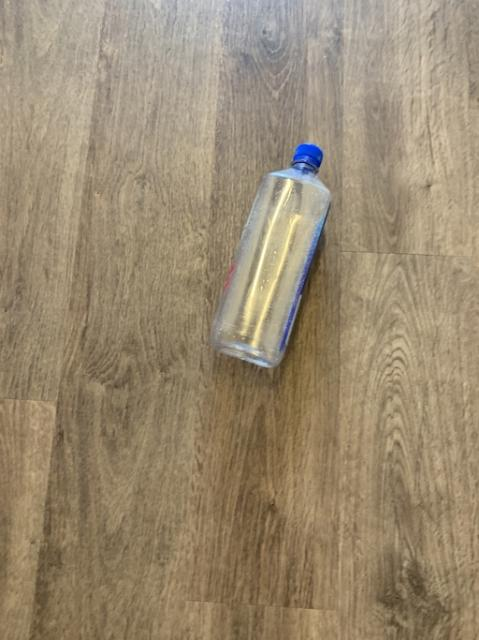plastic: (210, 142, 330, 365)
